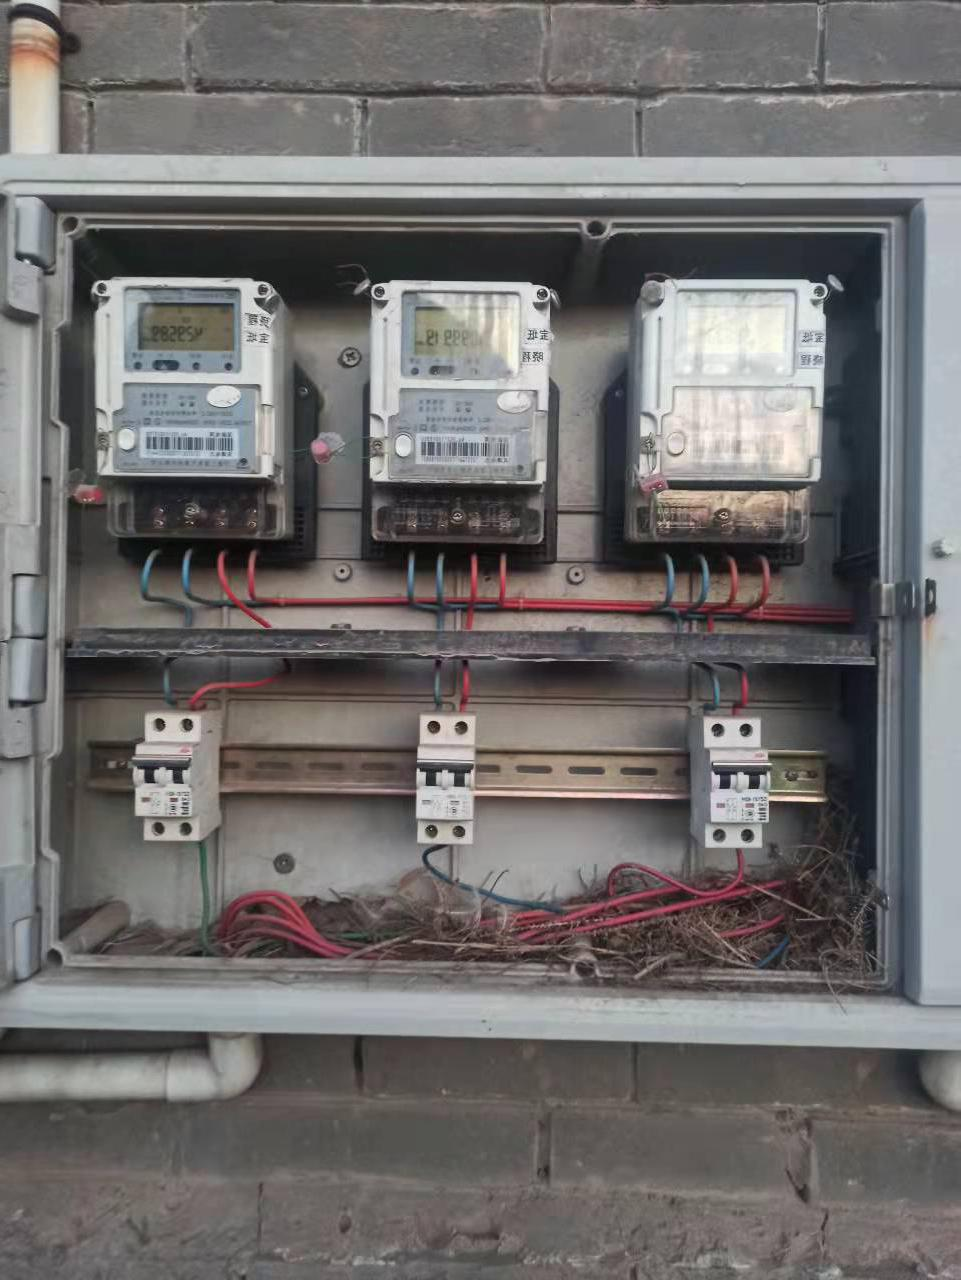digital: (91, 278, 275, 479), (641, 278, 823, 479), (370, 279, 546, 484)
